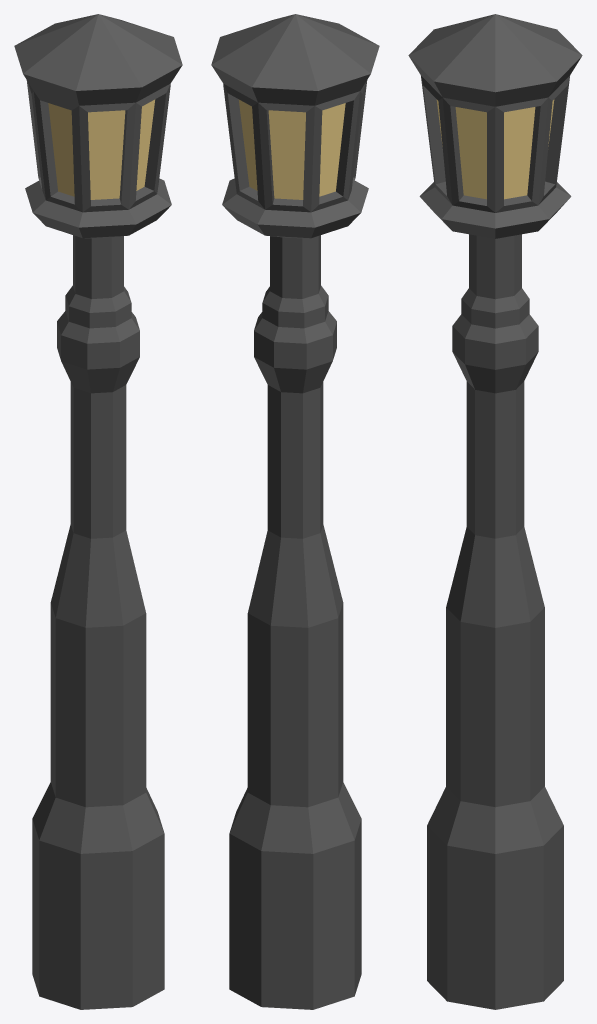
The model's file is Lampadaire.fbx.
3 renders of one model, left to right at view 1: azimuth 30°, elevation 25°; view 2: azimuth 150°, elevation 25°; view 3: azimuth 270°, elevation 25°, orthographic.
Visible parts, largest first — view 1: Cube; view 2: Cube; view 3: Cube.
Boxes of the visible parts, bbox=[...] form: Cube: bbox=[14, 14, 182, 1009]; Cube: bbox=[211, 14, 379, 1009]; Cube: bbox=[408, 14, 582, 1009].
Bounding box in the file's own units: 0.2832 × 1.73 × 0.2832.
